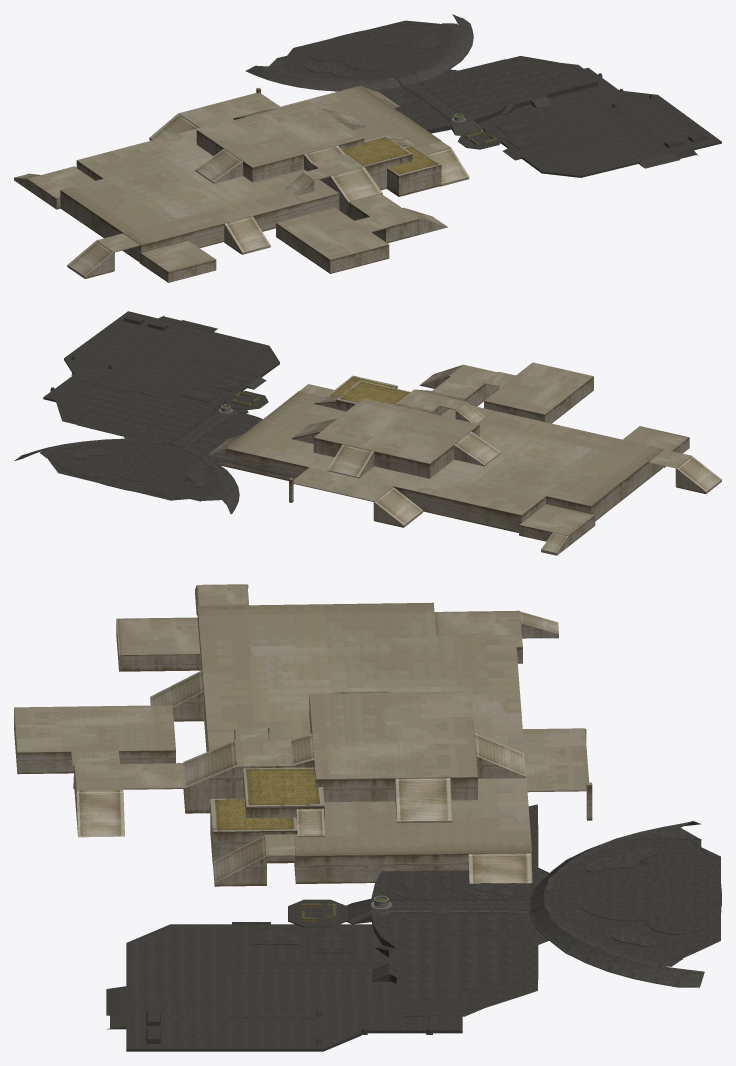
File: terrain2.glb
The picture shows the model from 3 angles, top to bottom: view 1: azimuth 30°, elevation 25°; view 2: azimuth 150°, elevation 25°; view 3: azimuth 270°, elevation 25°; orthographic projection. The views are drawn at different scales.
Visible parts, largest first — view 1: Mesh_0021.rip_mat0.041_0_mat0.041_0_22, Mesh_0183.rip_mat0.001_0_mat0.001_0_73, Mesh_0030.rip.001_mat0.043_0_mat0.043_0_49, Mesh_0031.rip.001_mat0.044_0_mat0.044_0_55, Mesh_0182.rip_mat0_0_mat0_0_70, Mesh_0029.rip.001_mat0.042_0_mat0.042_0_43; view 2: Mesh_0021.rip_mat0.041_0_mat0.041_0_22, Mesh_0183.rip_mat0.001_0_mat0.001_0_73, Mesh_0030.rip.001_mat0.043_0_mat0.043_0_49, Mesh_0031.rip.001_mat0.044_0_mat0.044_0_55, Mesh_0029.rip.001_mat0.042_0_mat0.042_0_43, Mesh_0182.rip_mat0_0_mat0_0_70; view 3: Mesh_0021.rip_mat0.041_0_mat0.041_0_22, Mesh_0183.rip_mat0.001_0_mat0.001_0_73, Mesh_0030.rip.001_mat0.043_0_mat0.043_0_49, Mesh_0031.rip.001_mat0.044_0_mat0.044_0_55, Mesh_0029.rip.001_mat0.042_0_mat0.042_0_43, Mesh_0182.rip_mat0_0_mat0_0_70.
Part boxes in pixels (bbox=[...]): Mesh_0021.rip_mat0.041_0_mat0.041_0_22: bbox=[14, 85, 469, 282]; Mesh_0183.rip_mat0.001_0_mat0.001_0_73: bbox=[247, 14, 598, 149]; Mesh_0030.rip.001_mat0.043_0_mat0.043_0_49: bbox=[479, 69, 720, 174]; Mesh_0031.rip.001_mat0.044_0_mat0.044_0_55: bbox=[503, 90, 696, 168]; Mesh_0182.rip_mat0_0_mat0_0_70: bbox=[245, 18, 598, 150]; Mesh_0029.rip.001_mat0.042_0_mat0.042_0_43: bbox=[477, 67, 721, 177]; Mesh_0021.rip_mat0.041_0_mat0.041_0_22: bbox=[208, 362, 721, 555]; Mesh_0183.rip_mat0.001_0_mat0.001_0_73: bbox=[15, 375, 297, 513]; Mesh_0030.rip.001_mat0.043_0_mat0.043_0_49: bbox=[47, 312, 276, 405]; Mesh_0031.rip.001_mat0.044_0_mat0.044_0_55: bbox=[76, 320, 265, 397]; Mesh_0029.rip.001_mat0.042_0_mat0.042_0_43: bbox=[43, 311, 279, 405]; Mesh_0182.rip_mat0_0_mat0_0_70: bbox=[14, 375, 297, 514]; Mesh_0021.rip_mat0.041_0_mat0.041_0_22: bbox=[14, 584, 592, 886]; Mesh_0183.rip_mat0.001_0_mat0.001_0_73: bbox=[254, 804, 721, 1016]; Mesh_0030.rip.001_mat0.043_0_mat0.043_0_49: bbox=[127, 926, 458, 1048]; Mesh_0031.rip.001_mat0.044_0_mat0.044_0_55: bbox=[106, 922, 396, 1040]; Mesh_0029.rip.001_mat0.042_0_mat0.042_0_43: bbox=[106, 922, 462, 1051]; Mesh_0182.rip_mat0_0_mat0_0_70: bbox=[253, 815, 721, 1017].
Bounding box in the file's own units: 299 × 19.34 × 193.
Materials: 12 (8 with a texture image).
